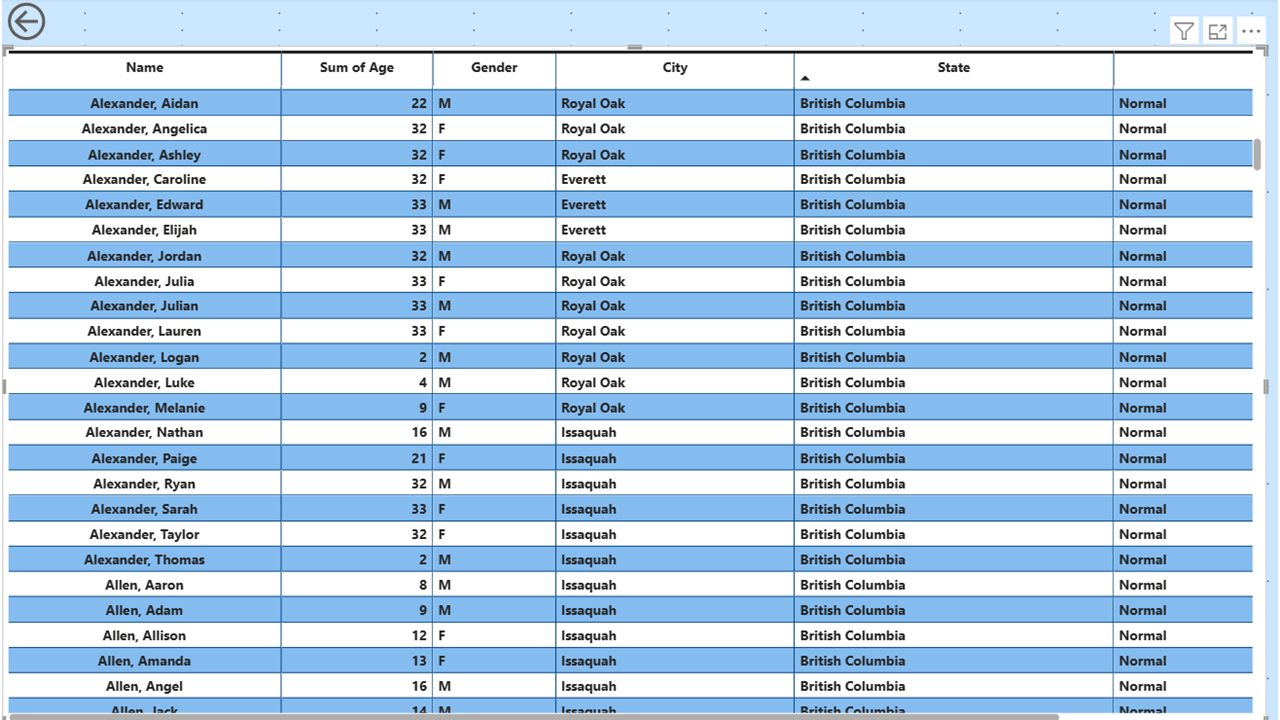

What the dashboard file says about the page in this screenshot:
{"tool":"powerbi","page":{"name":"Patients Details","canvas":[1280,720],"ordinal":2},"visuals":[{"type":"tableEx","fields":{"Values":["Detail data dataset.Name","Detail data dataset.Age","Detail data dataset.Gender","Detail data dataset.City","Detail data dataset.State","Detail data dataset.Status"]},"box":[16,48,1248,672],"z":0},{"type":"actionButton","box":[16,0,80,48],"z":1000}]}

Visuals, with their boxes on the page's 1280x720 design canvas (x1, y1, x2, y2). These are canvas units, not pixel positions in the 1280x720 screenshot, which may show the page scaled, cropped or inside an application window:
tableEx - Detail data dataset.Name x Detail data dataset.Age: detection(16, 48, 1264, 720)
actionButton: detection(16, 0, 96, 48)
